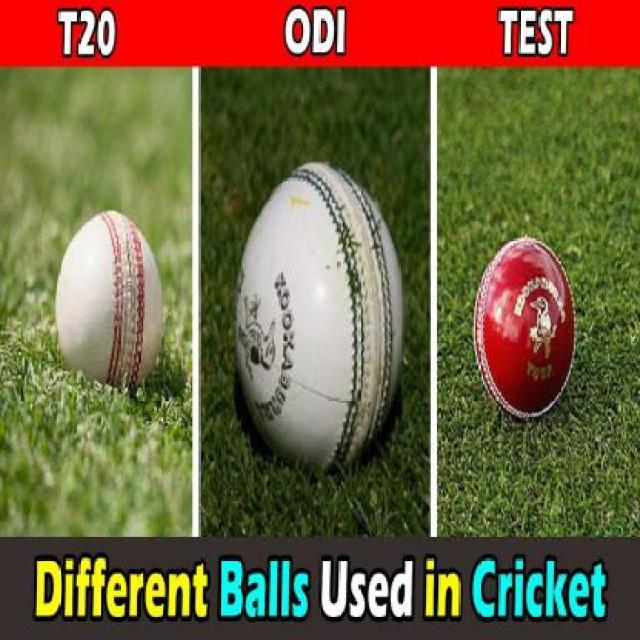ball: (454, 215, 586, 436)
